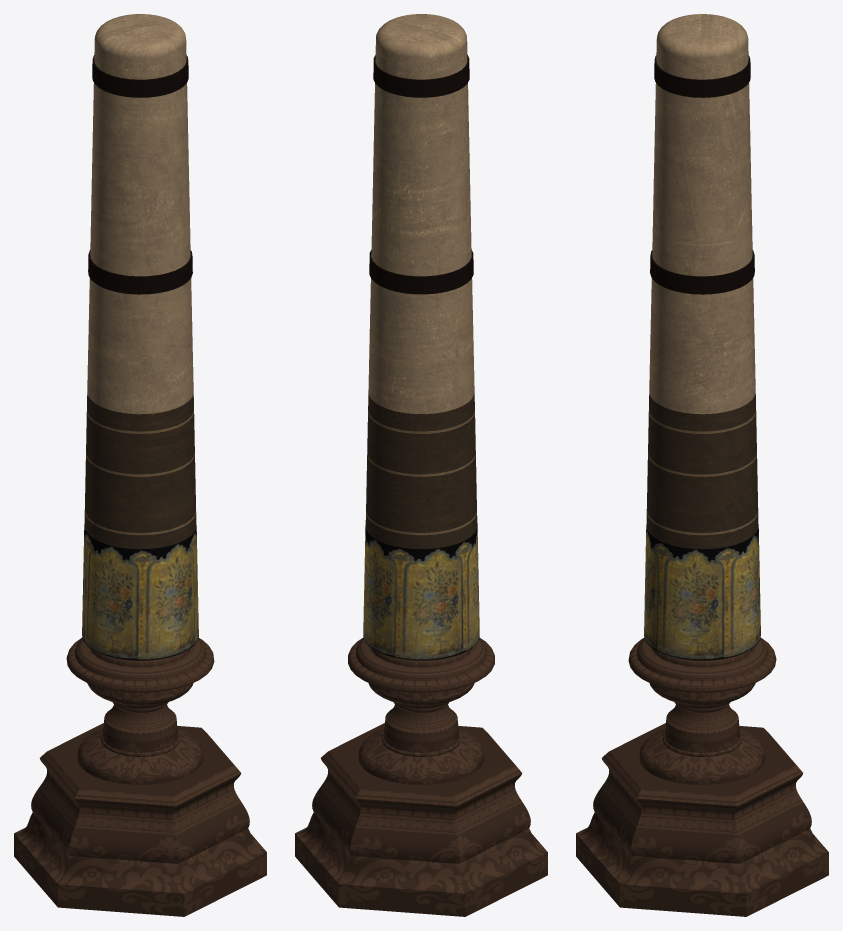
File: Kart02_Kandil.FBX
3 views of the same model, side by side, from view 1: azimuth 30°, elevation 25°; view 2: azimuth 150°, elevation 25°; view 3: azimuth 270°, elevation 25° (orthographic).
Parts seen in each view (by area): view 1: KandilUst, AltTabla, KandilAlt, KandilAltlik, Isleme, Kelepce; view 2: KandilUst, AltTabla, KandilAlt, KandilAltlik, Isleme, Kelepce; view 3: KandilUst, AltTabla, KandilAlt, KandilAltlik, Isleme, Kelepce.
Part boxes in pixels (box(x1,y1,x2,y2)): KandilUst: box(87, 14, 193, 414); AltTabla: box(14, 723, 266, 916); KandilAlt: box(84, 393, 196, 549); KandilAltlik: box(66, 638, 214, 784); Isleme: box(82, 524, 198, 660); Kelepce: box(88, 55, 192, 294); KandilUst: box(368, 14, 474, 413); AltTabla: box(295, 723, 547, 916); KandilAlt: box(365, 393, 477, 549); KandilAltlik: box(348, 638, 494, 784); Isleme: box(363, 523, 479, 660); Kelepce: box(369, 54, 473, 294); KandilUst: box(649, 14, 755, 414); AltTabla: box(576, 723, 828, 916); KandilAlt: box(646, 393, 758, 549); KandilAltlik: box(628, 638, 776, 784); Isleme: box(644, 526, 760, 660); Kelepce: box(650, 55, 754, 294).
Size of the model in its own units: 54.35 by 208 by 56.96.
Materials: 5 (4 with a texture image).
